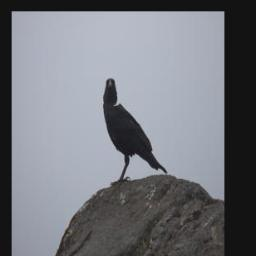Crow: (101, 76, 167, 184)
